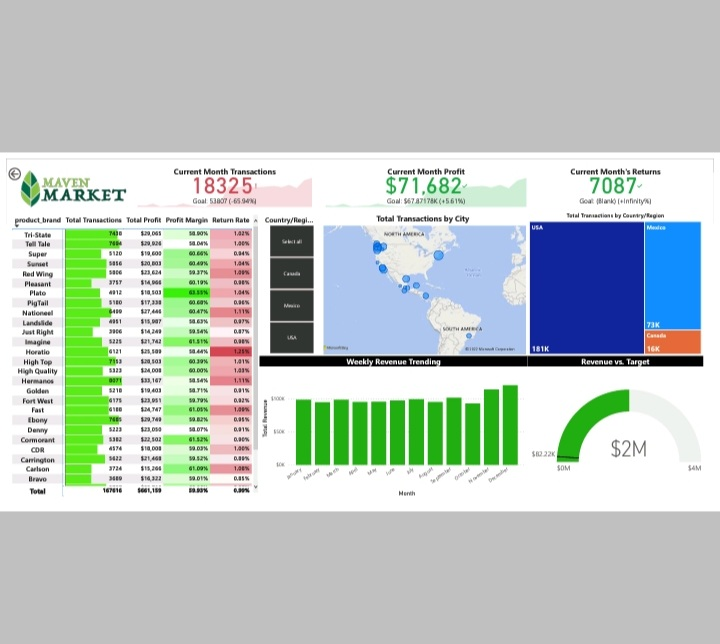

The dashboard page shown, as its layout file describes it:
{"tool":"powerbi","page":{"name":"Topline Performance","canvas":[1700,800],"ordinal":0},"visuals":[{"type":"image","box":[10.9,0,299.1,111.3],"z":0},{"type":"pivotTable","fields":{"Rows":["Products.product_brand"],"Values":["Calendar.Total Transactions","Calendar.Total Profit","Calendar.Profit Margin","Calendar.Return Rate"]},"box":[10.2,114.9,599.3,685.1],"z":1000},{"type":"actionButton","box":[0,0,100,40],"z":2000},{"type":"kpi","title":"Current Month Transactions","fields":{"Indicator":["Calendar.Total Transactions"],"TrendLine":["Calendar.Start of Month"],"Goal":["Calendar.Last Month Transactions"]},"box":[310.1,0,428.6,104],"z":3000},{"type":"kpi","title":"Current Month Profit","fields":{"Indicator":["Calendar.Total Profit"],"TrendLine":["Calendar.Start of Month"],"Goal":["Calendar.Last Month Profit"]},"box":[762.4,0,492.5,104],"z":4000},{"type":"kpi","title":"Current Month''s Returns","fields":{"Indicator":["Calendar.Total Returns"],"TrendLine":["Calendar.Start of Month"],"Goal":["Calendar.Last Month Returns"]},"box":[1254.9,0,419.5,104],"z":5000},{"type":"map","fields":{"Category":["Stores.City"],"Size":["Calendar.Total Transactions"]},"box":[747.6,114.9,506.2,343.3],"z":6000},{"type":"slicer","fields":{"Values":["Stores.Country/Region"]},"box":[609.5,114.9,152.7,343.3],"z":7000},{"type":"treemap","fields":{"Values":["Calendar.Total Transactions"],"Group":["Stores.Country/Region","Stores.State or Province","Stores.City"]},"box":[1253.4,111.3,421.9,346.2],"z":8000},{"type":"columnChart","title":"Weekly Revenue Trending","fields":{"Category":["Calendar.date.Variation.Date Hierarchy.Month","Calendar.date.Variation.Date Hierarchy.Day","Calendar.Year"],"Y":["Calendar.Total Revenue"]},"box":[608.9,457.5,644.5,343.1],"z":8001},{"type":"gauge","title":"Revenue vs. Target","fields":{"Y":["Calendar.Total Revenue"],"TargetValue":["Calendar.Revenue Target"]},"box":[1253,458,422,342],"z":8002}]}

Visuals, with their boxes in screenshot pixels (x1, y1, x2, y2):
image: 27, 172, 147, 217
pivotTable - Products.product_brand x Calendar.Total Transactions: 27, 219, 268, 495
actionButton: 22, 172, 63, 189
"Current Month Transactions" kpi: 147, 172, 320, 214
"Current Month Profit" kpi: 330, 172, 528, 214
"Current Month''s Returns" kpi: 528, 172, 697, 214
map - Stores.City x Calendar.Total Transactions: 324, 219, 528, 357
slicer - Stores.Country/Region: 268, 219, 330, 357
treemap - Calendar.Total Transactions x Stores.Country/Region: 527, 217, 697, 357
"Weekly Revenue Trending" columnChart: 268, 357, 527, 495
"Revenue vs. Target" gauge: 527, 357, 697, 495
